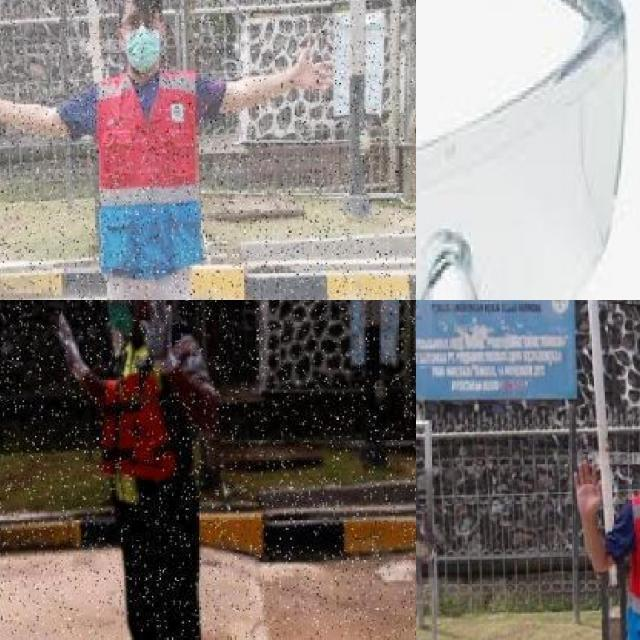apron: (137, 300, 180, 376), (49, 310, 92, 383)
